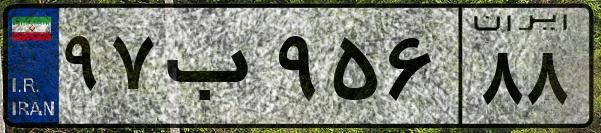5: (330, 28, 385, 110)
6: (385, 28, 445, 110)
7: (110, 28, 158, 98)
8: (475, 38, 525, 113), (525, 38, 570, 115)
9: (270, 28, 330, 110), (57, 26, 110, 100)
ب: (158, 20, 270, 120)
